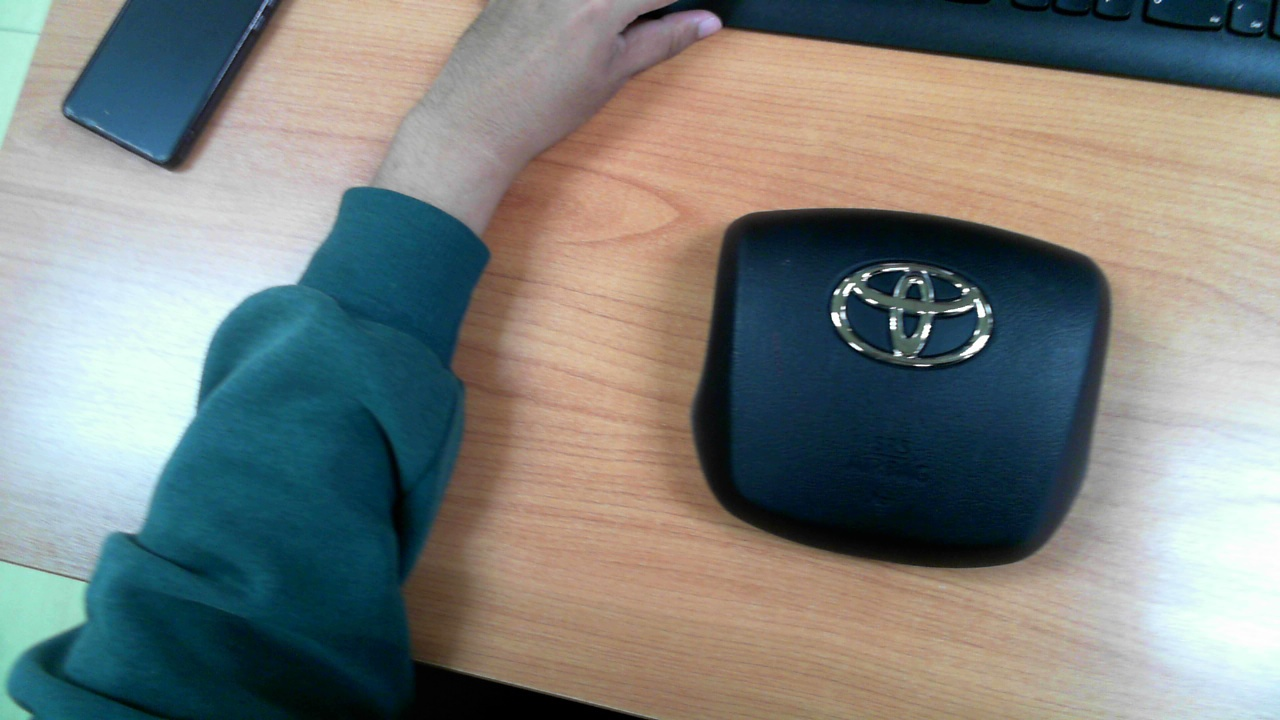Airbag: (691, 207, 1111, 569)
Toyota: (831, 262, 993, 368)
